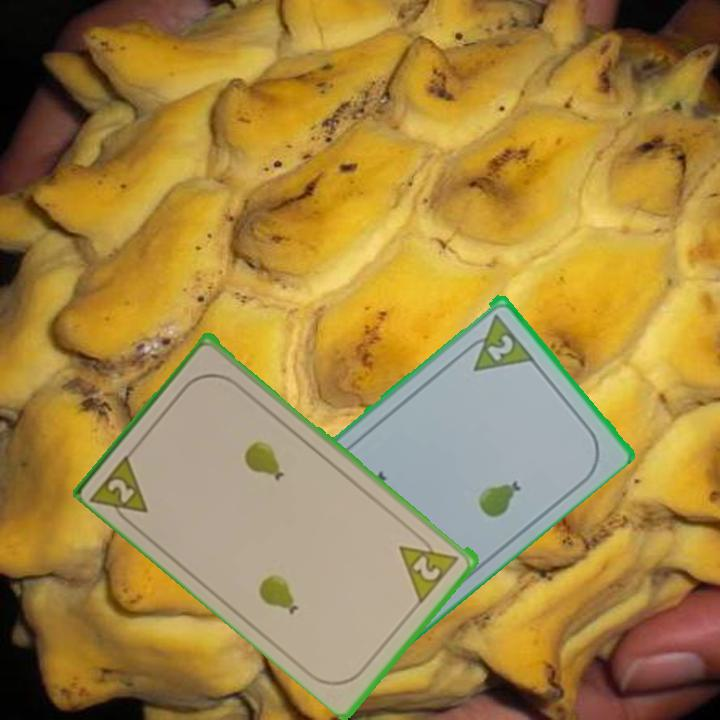2p: (395, 528, 462, 604), (483, 330, 517, 364), (104, 474, 139, 507)
